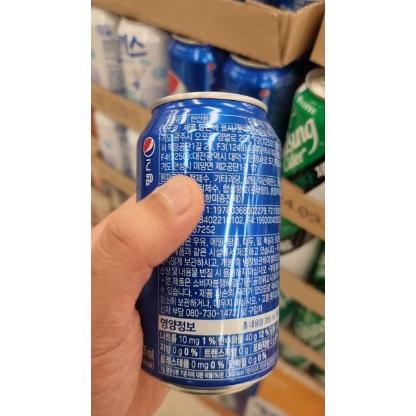Can: (136, 88, 282, 396)
